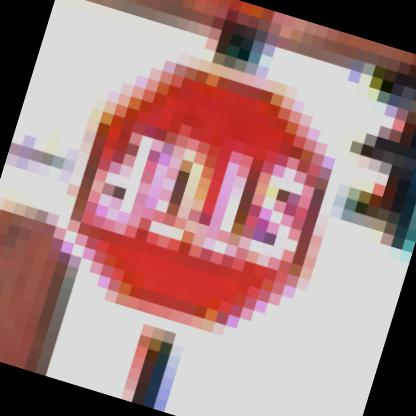stop: (25, 40, 376, 360)
